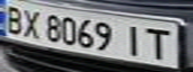0: (57, 15, 78, 47)
6: (75, 16, 96, 50)
8: (39, 11, 63, 43)
9: (90, 19, 118, 53)
B: (0, 2, 27, 35)
I: (118, 21, 148, 57)
T: (142, 25, 178, 61)
X: (18, 7, 45, 39)
